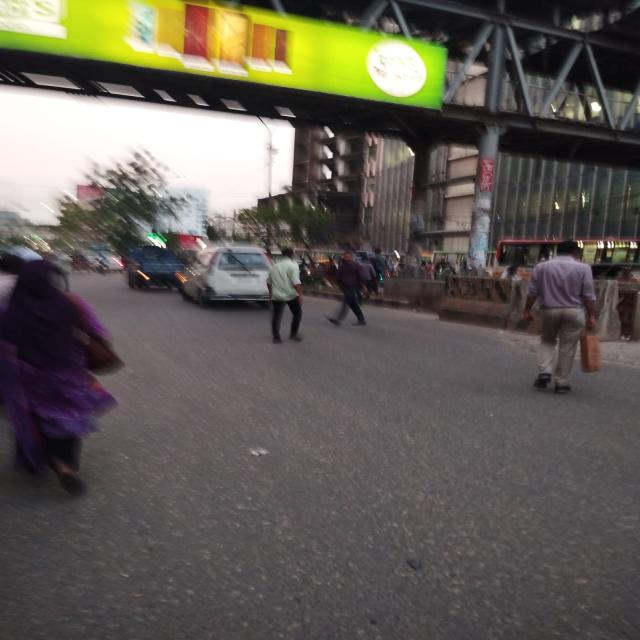person: (0, 258, 121, 495), (522, 241, 596, 394), (267, 248, 303, 344)
